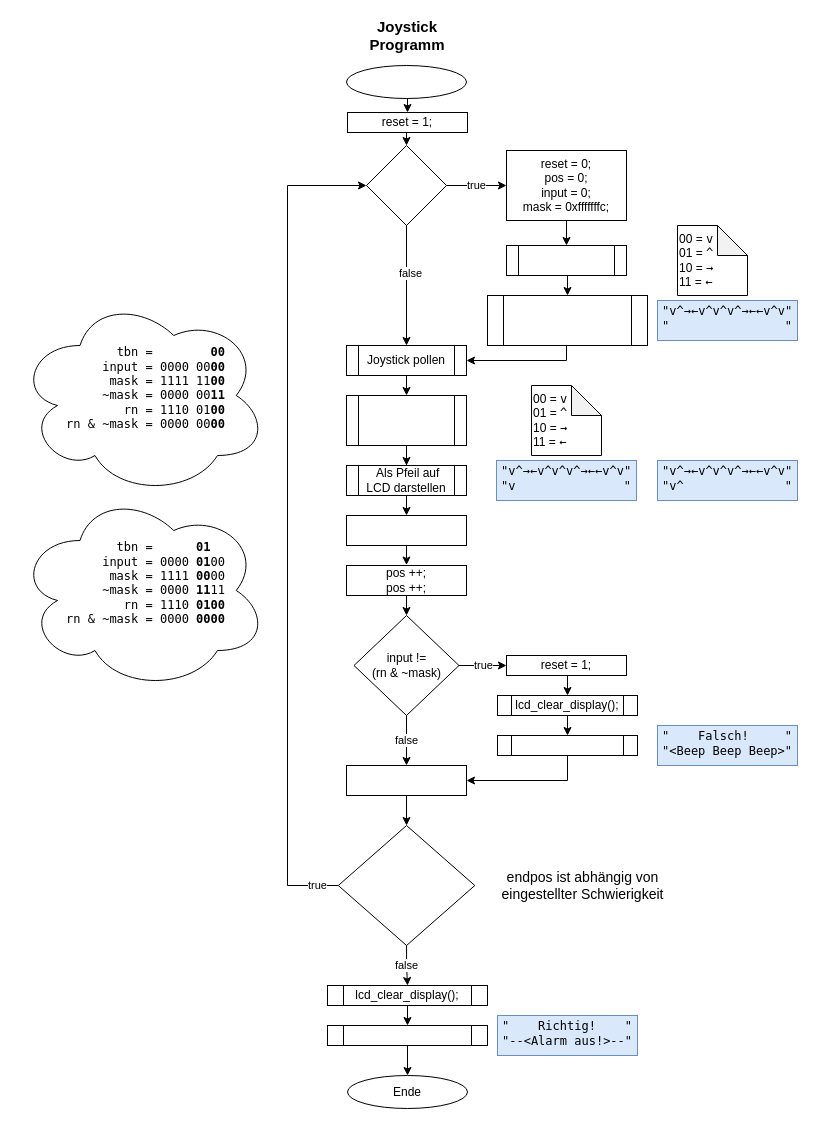
This 815x1126 diagram has some shape labels left out. Here are the shapes that lost their labels. From the top down, the centre of each, then its label:
[406,81]: Start
[406,185]: reset?
[566,260]: rn = get_rng()
[567,320]: Zufallszahl als Pfeile darstellen (Leserichtung vertauscht)
[406,420]: Joystick in 2 Bit Darstellung (tbn) konvertieren
[406,530]: input = input | (tbn << pos);
[567,745]: Fehlermeldung LCD
[406,780]: mask = (mask << 2);
[406,885]: (pos < endpos) | reset
[407,1035]: Erfolgsmeldung LCD
